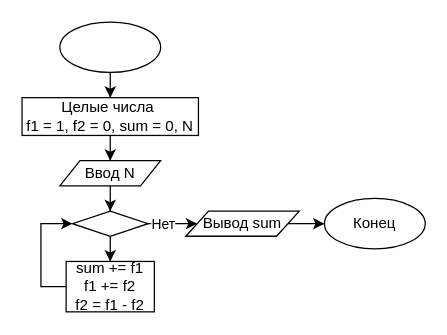
Image size: 447x335. Some labels were removed from this diagram. The centre of each missing label's shape, as x and y in pixels:
"f1 < N" belongs at (x=109, y=223).
"Начало" belongs at (x=110, y=46).
